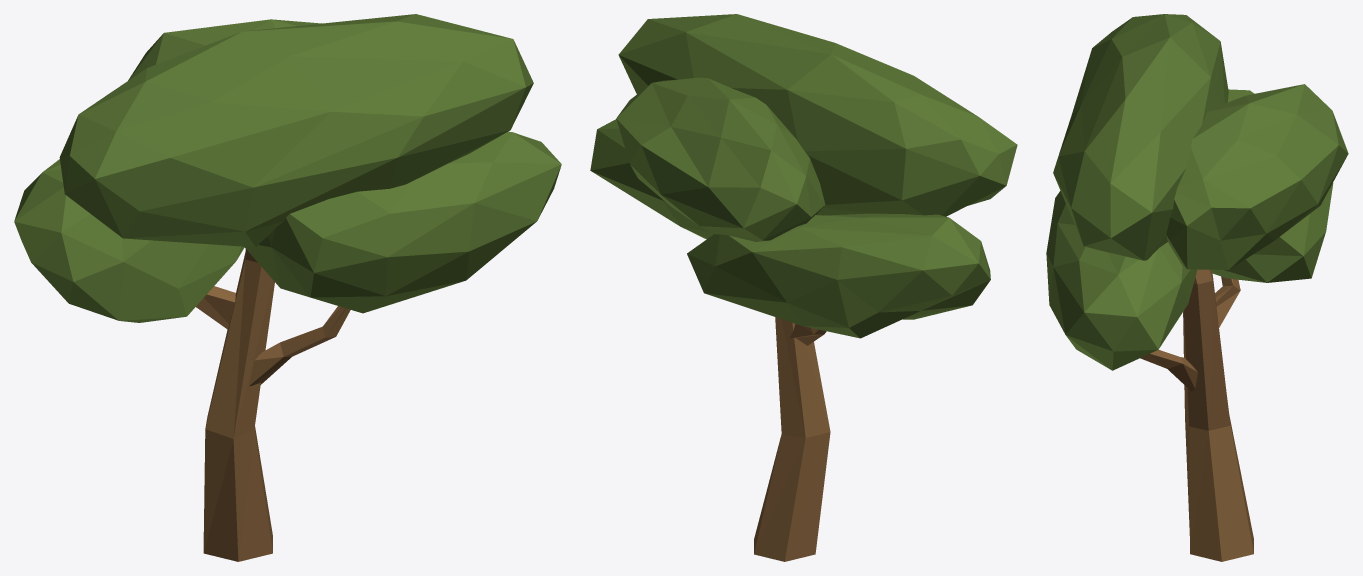
The model's file is Tree_5_2.FBX.
3 renders of one model, left to right at view 1: azimuth 30°, elevation 25°; view 2: azimuth 150°, elevation 25°; view 3: azimuth 270°, elevation 25°, orthographic. The views are drawn at different scales.
Visible parts, largest first — view 1: Tree_5_2; view 2: Tree_5_2; view 3: Tree_5_2.
Part boxes in pixels (left/top/right/bottom): Tree_5_2: left=14, top=14, right=561, bottom=561; Tree_5_2: left=590, top=14, right=1017, bottom=561; Tree_5_2: left=1046, top=14, right=1348, bottom=561.
Size of the model in its own units: 146 by 157 by 86.34.
1 material, 1 textured.
